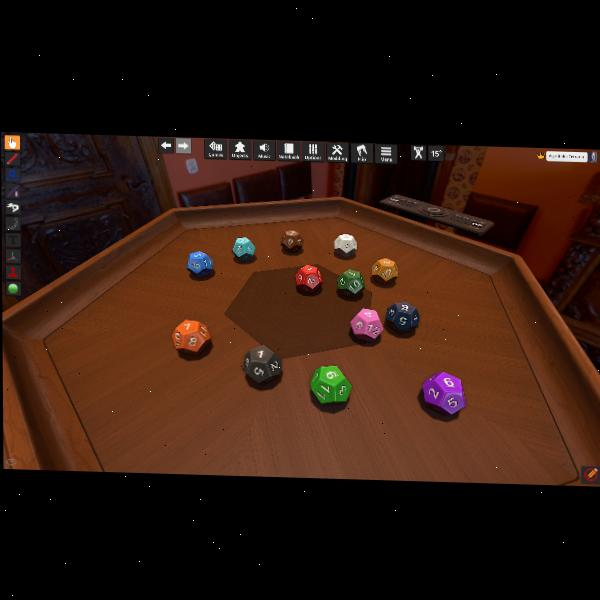d12: (423, 371, 465, 415), (243, 344, 282, 384), (310, 364, 348, 403), (173, 318, 212, 354), (349, 307, 382, 343), (384, 301, 416, 333), (186, 249, 214, 278), (336, 268, 364, 295), (295, 265, 321, 293), (371, 257, 397, 284), (233, 235, 257, 261), (334, 232, 356, 256), (281, 229, 302, 252)
